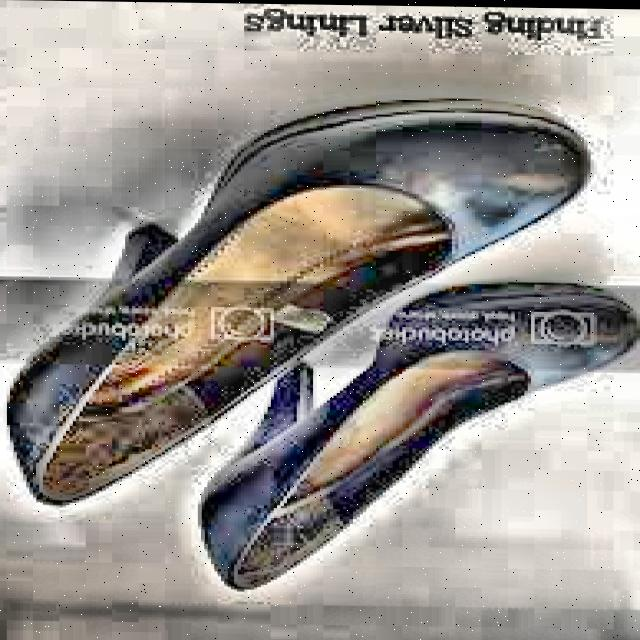shoes: (9, 85, 630, 598)
